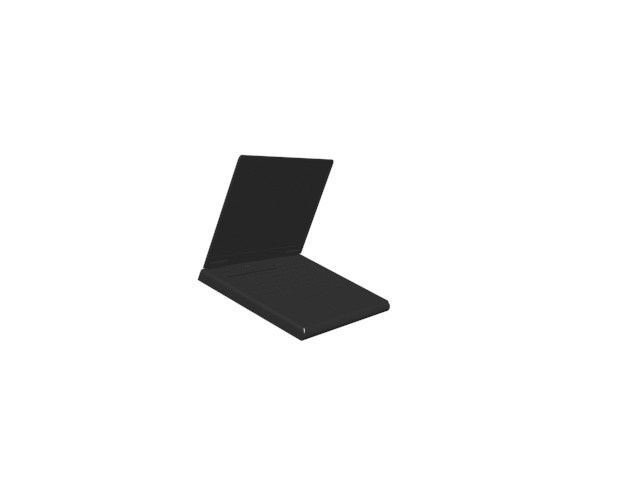laptop_computer: (193, 153, 392, 344)
